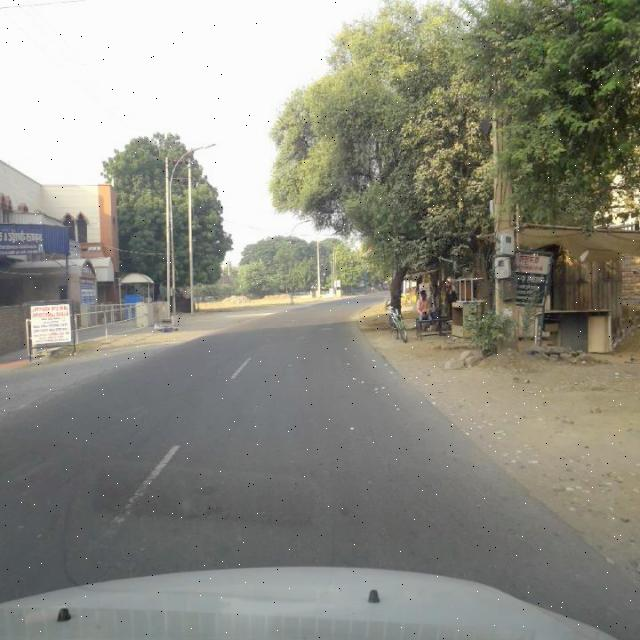D44: (108, 436, 183, 530)
